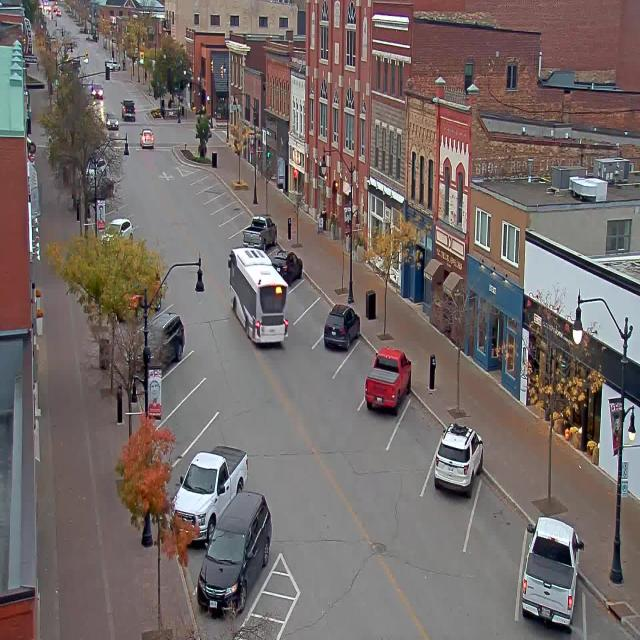available: (470, 479, 534, 580), (397, 389, 445, 469), (165, 374, 231, 428), (178, 404, 241, 451), (162, 341, 215, 390), (584, 595, 640, 640), (342, 329, 380, 391), (305, 298, 331, 341), (290, 282, 314, 318), (220, 212, 250, 240), (212, 202, 241, 224), (206, 192, 230, 212), (190, 174, 216, 192), (186, 167, 210, 184), (198, 185, 224, 199)
occupied: (196, 490, 272, 617), (171, 444, 249, 547), (521, 515, 584, 629), (434, 421, 484, 498), (364, 346, 412, 414), (141, 309, 185, 364), (324, 303, 361, 351), (269, 248, 303, 286), (242, 214, 277, 250)
